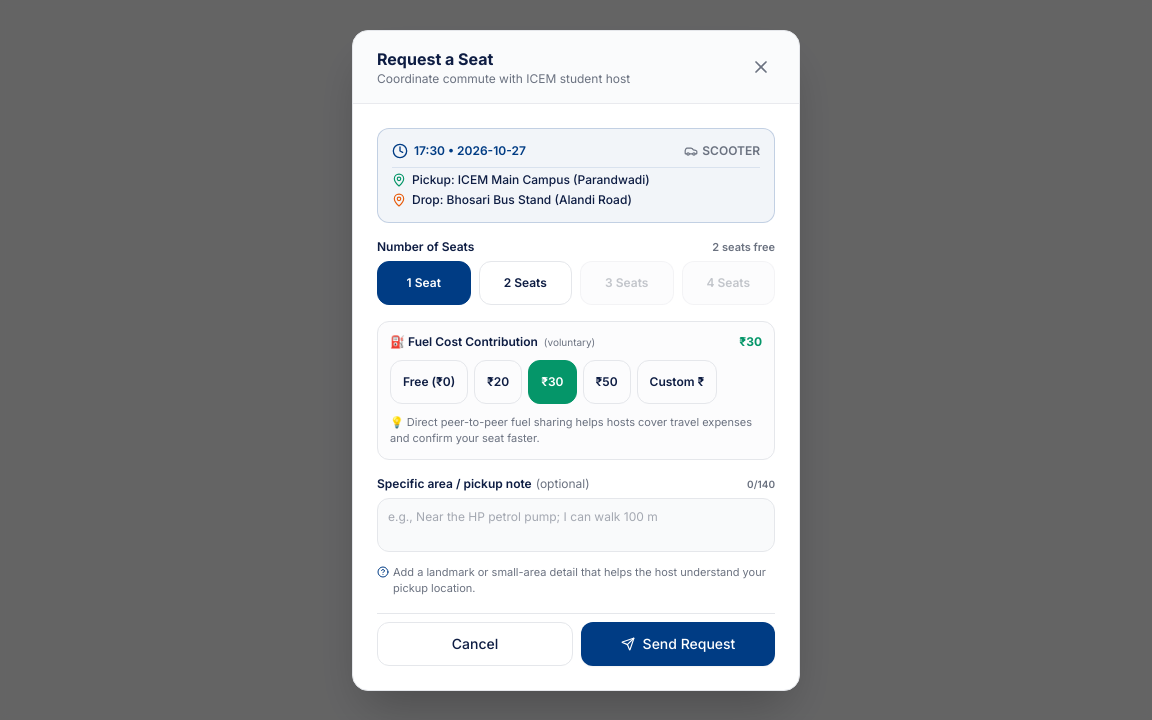
Test: JoinRequestModal Component (Phase 6) › submits a join request with custom pickup note and renders success state
Type "Near the HP petrol pump; I can walk 100 m" into the text box labelled "Specific area / pickup note (optional) 0/140" at (576, 524), box [377,498,775,552]
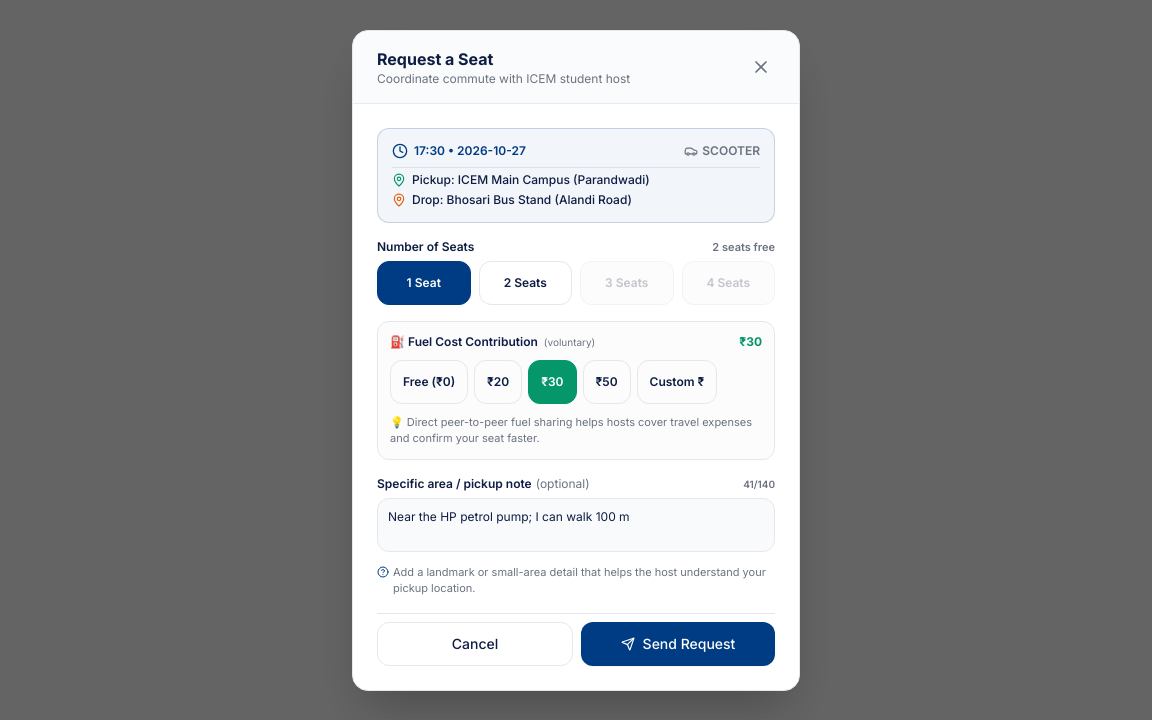
Click the button "Send Request" at (678, 644), box [581,622,775,666]
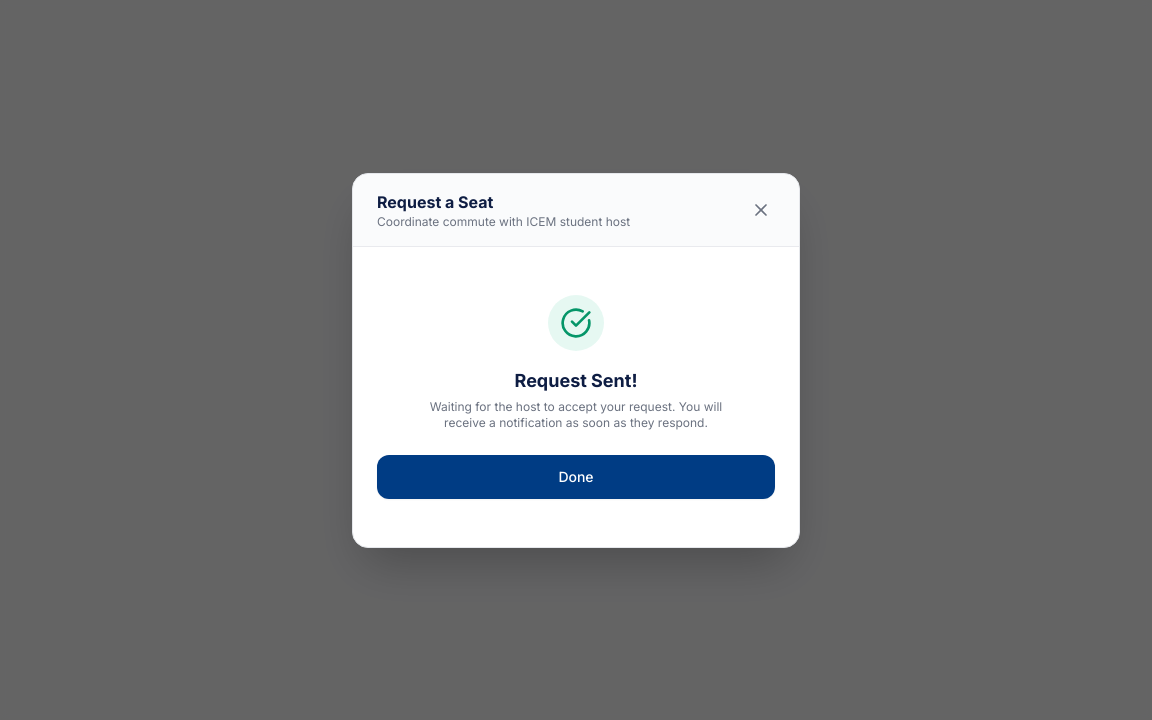
Expected: the heading "Request Sent!" is shown, [514,370,637,390]
Expected: the text "Waiting for the host to accept your request" is shown, [430,398,722,430]
